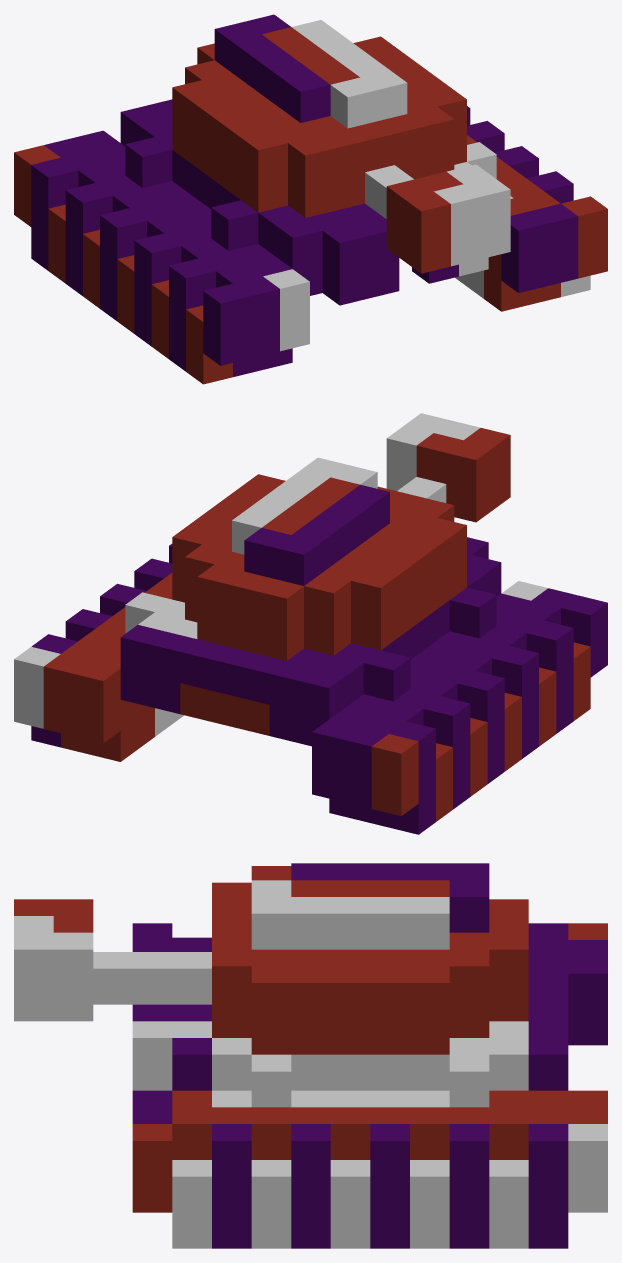
Rendered from armored_red_tank.glb.
3 views of the same model, one above another, from view 1: azimuth 30°, elevation 25°; view 2: azimuth 150°, elevation 25°; view 3: azimuth 270°, elevation 25° (orthographic). The views are drawn at different scales.
Visible parts, largest first — view 1: Object_2.018; view 2: Object_2.018; view 3: Object_2.018.
Boxes of the visible parts, x1,y1,x2,y2 form: Object_2.018: [14, 14, 607, 384]; Object_2.018: [14, 413, 607, 834]; Object_2.018: [14, 863, 607, 1248].
Bounding box in the file's own units: 13 × 7 × 15.
Materials: 1 (1 with a texture image).
